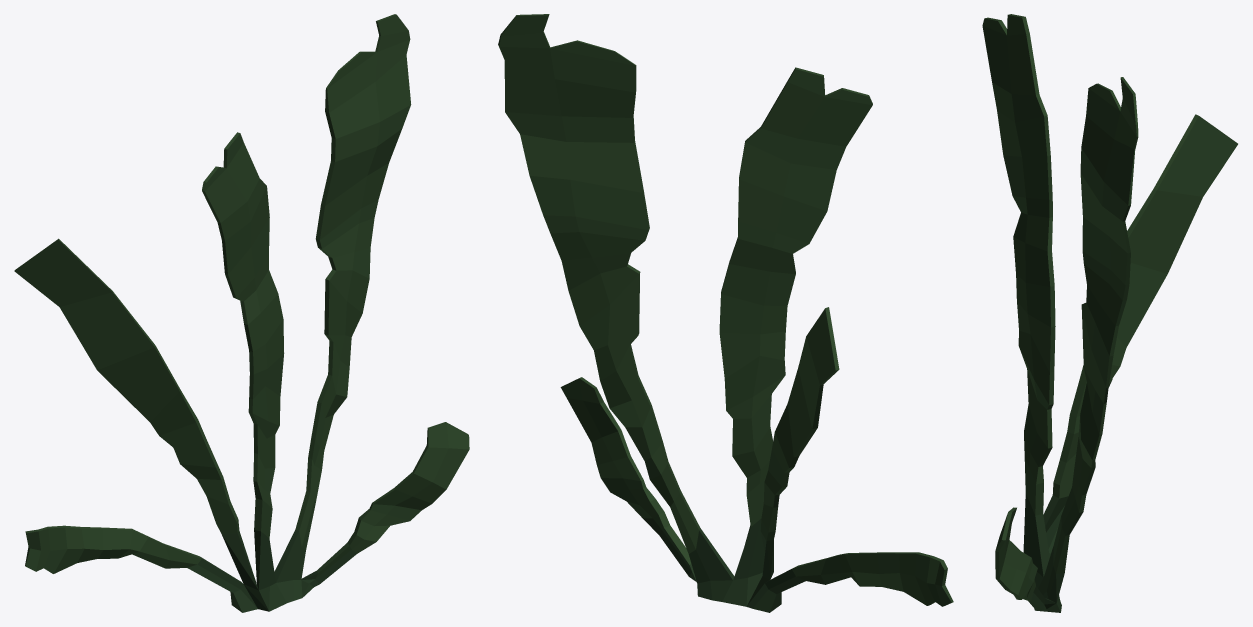
The model's file is SM_Flora_06.glb.
3 views of the same model, side by side, from view 1: azimuth 30°, elevation 25°; view 2: azimuth 150°, elevation 25°; view 3: azimuth 270°, elevation 25° (orthographic). The views are drawn at different scales.
Parts seen in each view (by area): view 1: SM_Flora_06; view 2: SM_Flora_06; view 3: SM_Flora_06.
Part boxes in pixels (left/top/right/bottom): SM_Flora_06: left=14, top=14, right=469, bottom=612; SM_Flora_06: left=498, top=14, right=953, bottom=612; SM_Flora_06: left=982, top=14, right=1237, bottom=612.
Size of the model in its own units: 0.7589 by 0.9456 by 0.3681.
Materials: 1 (1 with a texture image).
